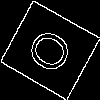O: (24, 25, 82, 82)
